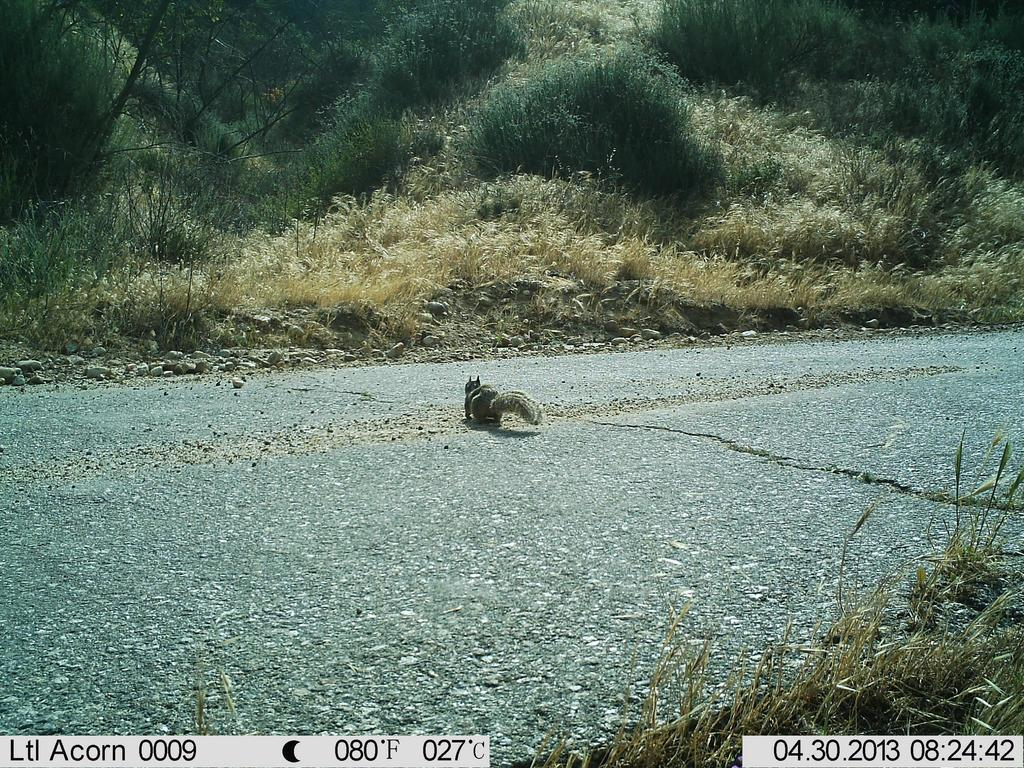squirrel: (455, 374, 549, 441)
